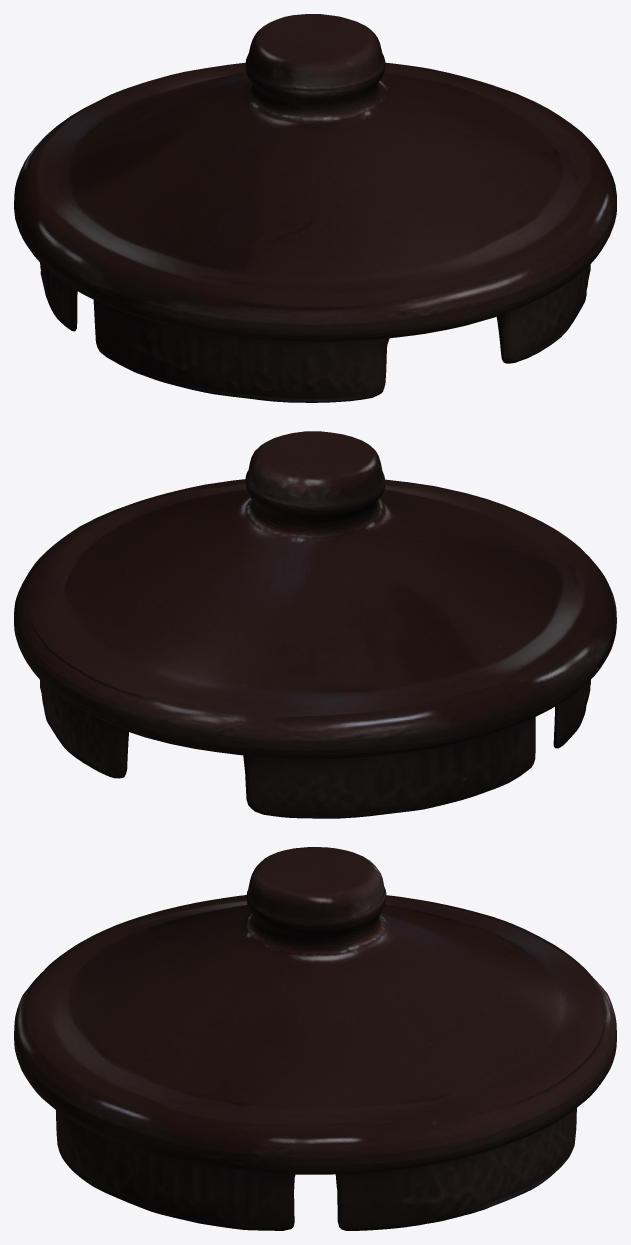
The model's file is tampa.glb.
3 renders of one model, top to bottom at view 1: azimuth 30°, elevation 25°; view 2: azimuth 150°, elevation 25°; view 3: azimuth 270°, elevation 25°, orthographic.
Parts seen in each view (by area): view 1: world; view 2: world; view 3: world.
Boxes of the visible parts, x1,y1,x2,y2 form: world: (14,14,616,402); world: (14,431,616,818); world: (14,847,616,1230).
Size of the model in its own units: 0.9987 by 0.4602 by 0.9999.
1 material, 1 textured.
